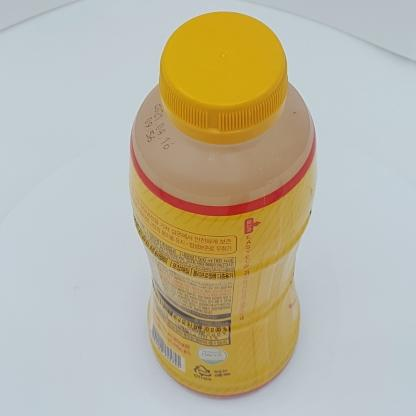------500ML: (129, 12, 317, 399)
